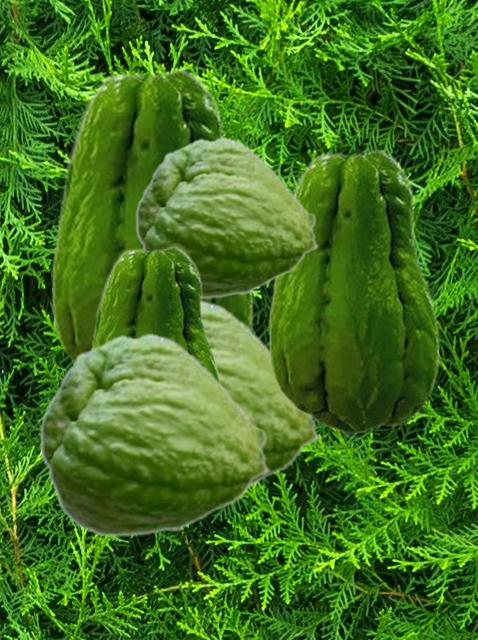sayote: (51, 67, 253, 364), (268, 148, 439, 434), (39, 332, 271, 537), (135, 136, 319, 299), (204, 300, 321, 489), (88, 245, 222, 381)
